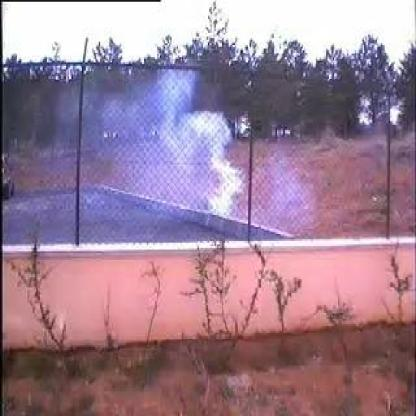-: (79, 58, 249, 238)
